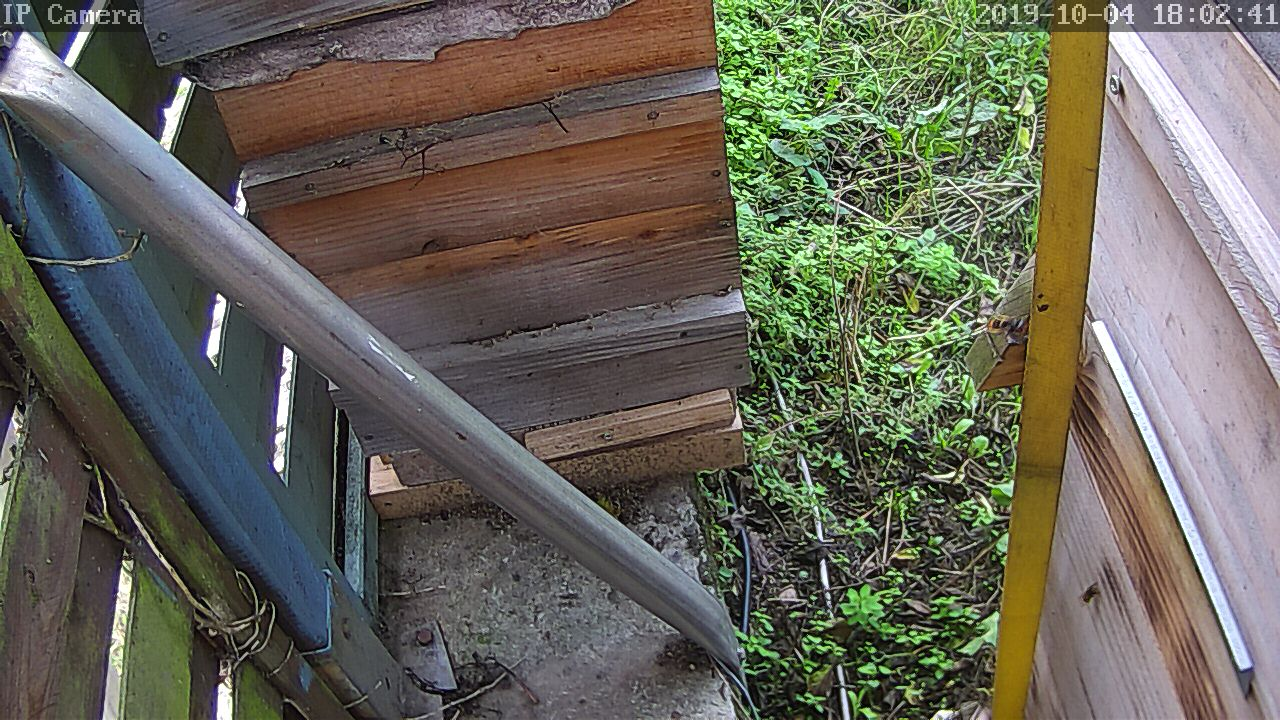bee: (1078, 578, 1099, 610)
hornet: (982, 306, 1037, 356)
